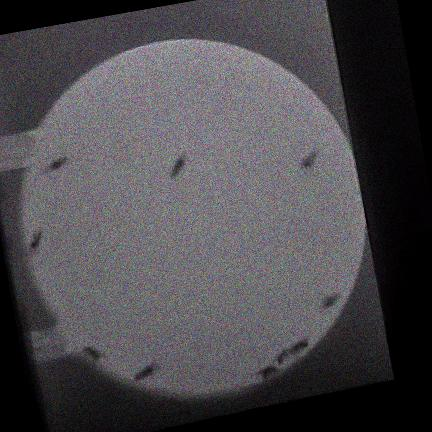fly: (135, 363, 160, 381), (170, 155, 187, 179), (45, 156, 69, 172), (289, 337, 309, 356), (82, 347, 107, 361), (29, 229, 43, 254), (300, 151, 319, 169), (255, 365, 278, 379), (274, 348, 291, 365), (322, 294, 340, 308)
